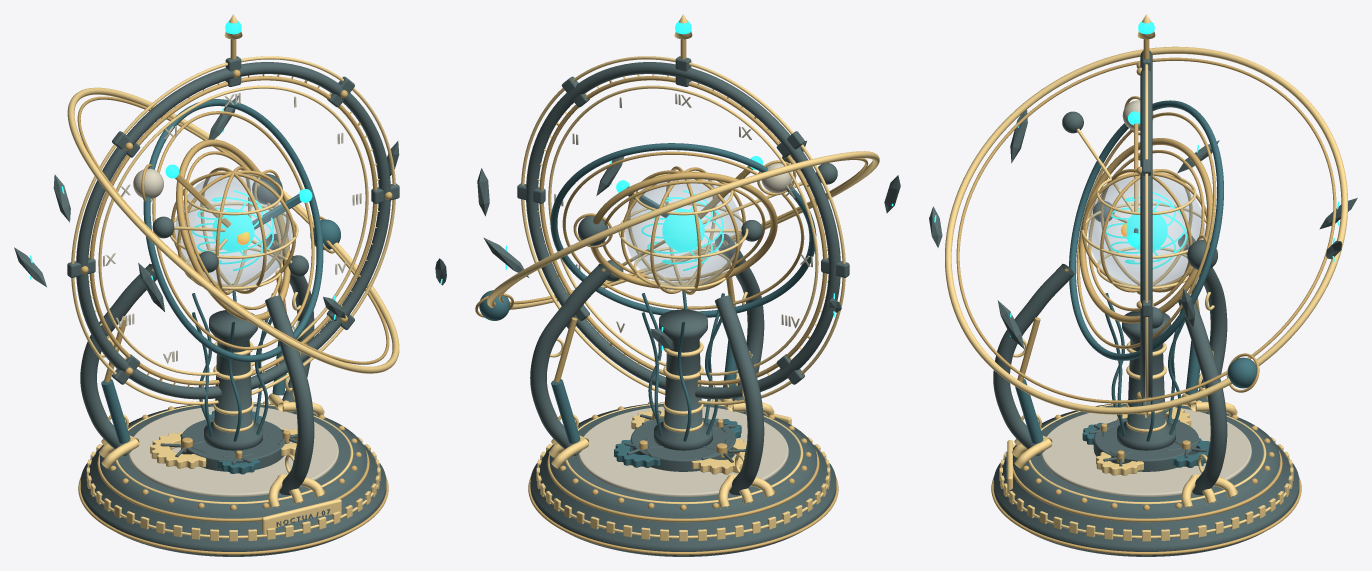
File: free_celestial_armillary_sphere_steampunk_orrery.glb
3 renders of one model, left to right at view 1: azimuth 30°, elevation 25°; view 2: azimuth 150°, elevation 25°; view 3: azimuth 270°, elevation 25°, orthographic.
Bounding box in the file's own units: 6.63 × 8.25 × 6.67.
